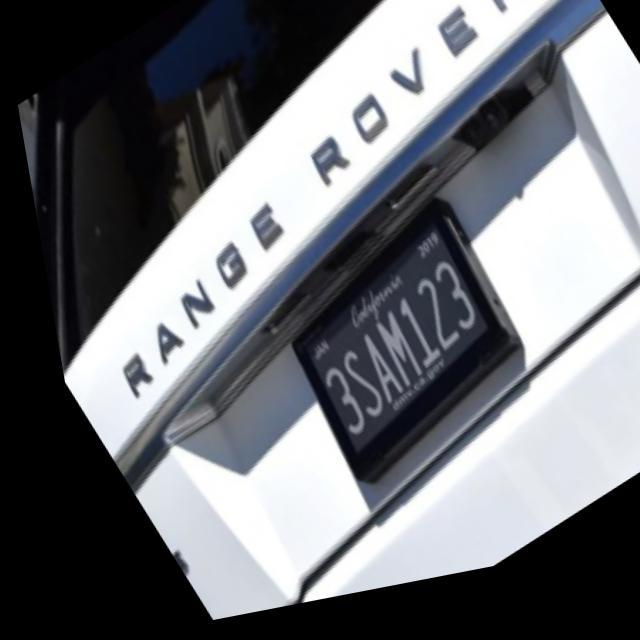license_plate: (258, 246, 506, 475)
